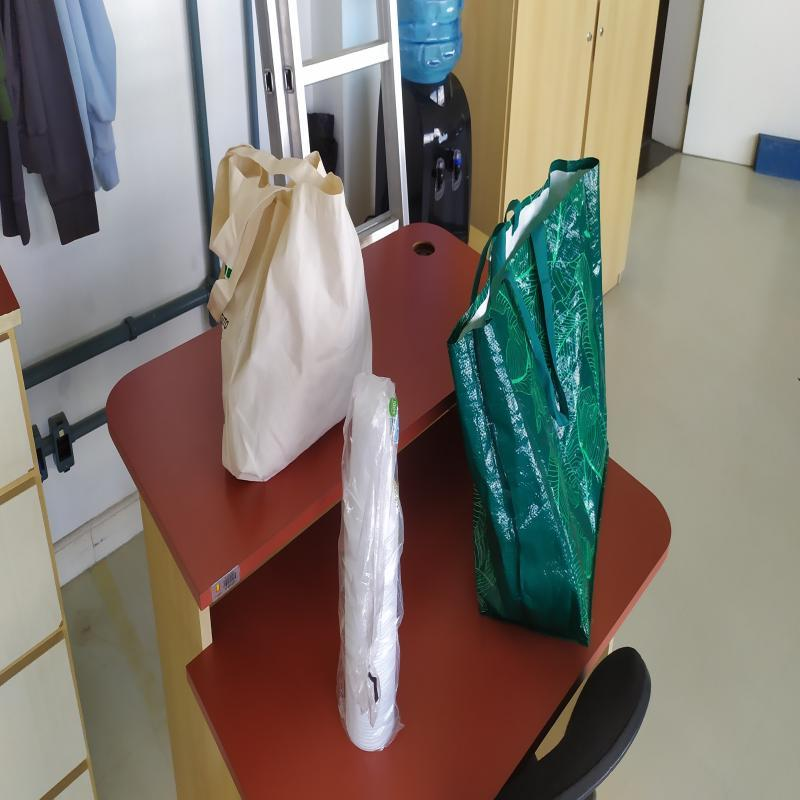Bag: (447, 154, 610, 650), (212, 148, 376, 485)
